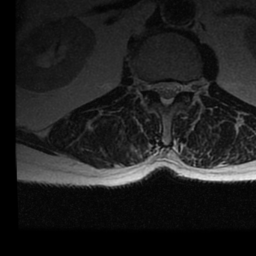CCS_normal: (162, 73, 170, 110)
LFS_normal: (180, 75, 188, 102)
LLS_normal: (171, 74, 180, 103)
RFS_stenosis: (144, 73, 154, 98)
RLS_normal: (154, 76, 162, 101)
